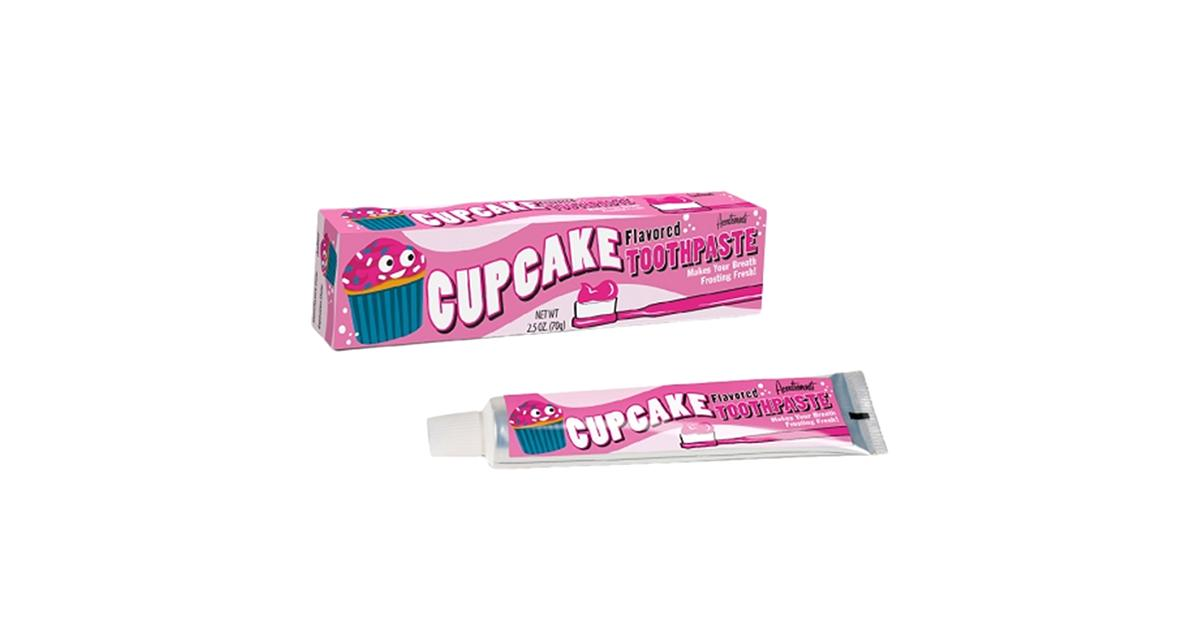toothpaste: (411, 361, 905, 481)
